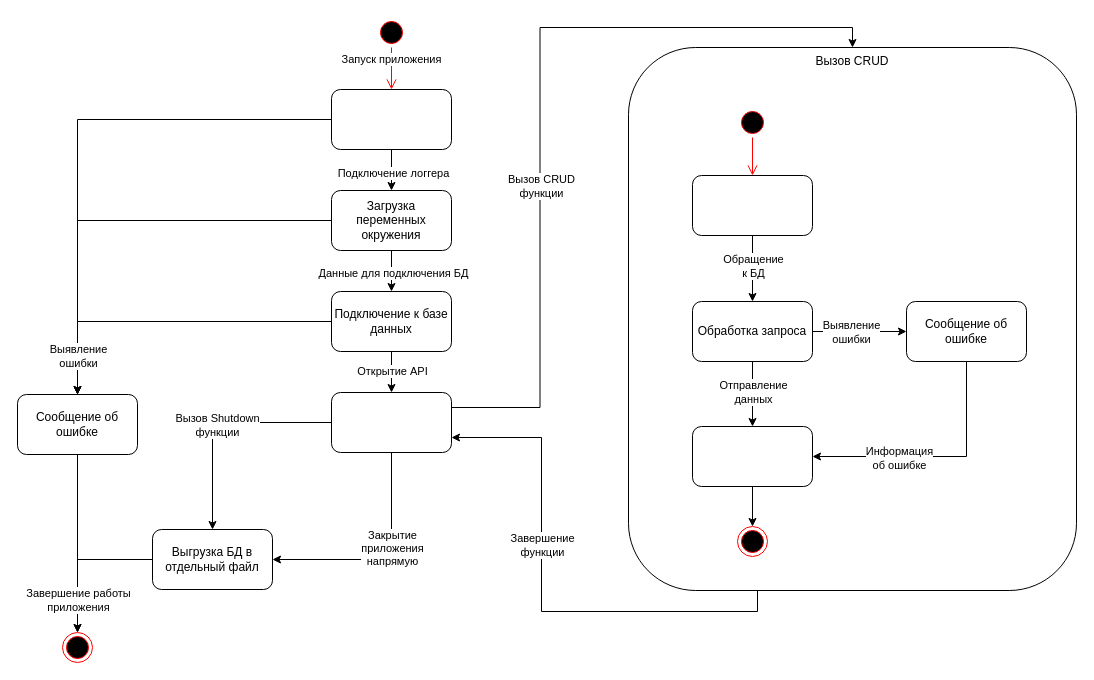
This 1094x680 diagram has some shape labels left out. The shapes that lost their labels are listed below. From the top down, each one's centre as x and y in pixels, then its label:
the point at 391,119: Инициализация логгера
the point at 752,205: Вызов функции
the point at 391,422: Ожидание вызова API
the point at 752,456: Отправка ответа на запрос
